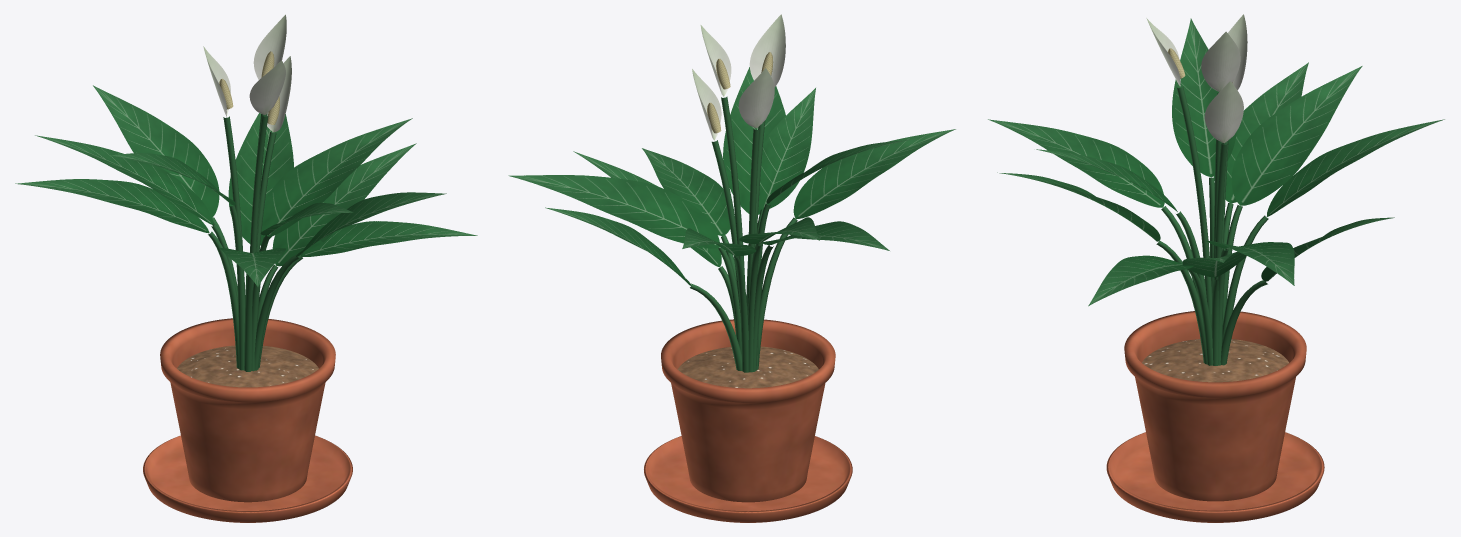
Rendered from spathiphyllum.glb.
The picture shows the model from 3 angles, left to right: view 1: azimuth 30°, elevation 25°; view 2: azimuth 150°, elevation 25°; view 3: azimuth 270°, elevation 25°; orthographic projection. The views are drawn at different scales.
Visible parts, largest first — view 1: piece-0, piece-1, piece-11, piece-14, piece-9, piece-2, piece-3, piece-12, piece-6, piece-4, piece-8, piece-23 (+8 smaller); view 2: piece-0, piece-1, piece-11, piece-14, piece-10, piece-2, piece-5, piece-23, piece-8, piece-13, piece-6, piece-19 (+8 smaller); view 3: piece-0, piece-1, piece-4, piece-14, piece-10, piece-2, piece-7, piece-9, piece-23, piece-12, piece-8, piece-21 (+8 smaller).
Boxes of the visible parts, bbox=[...] form: piece-0: bbox=[160, 318, 335, 502]; piece-1: bbox=[143, 435, 352, 522]; piece-11: bbox=[261, 118, 412, 236]; piece-14: bbox=[208, 205, 302, 371]; piece-9: bbox=[93, 85, 219, 217]; piece-2: bbox=[177, 345, 318, 387]; piece-3: bbox=[272, 143, 416, 266]; piece-12: bbox=[15, 179, 209, 233]; piece-6: bbox=[228, 113, 293, 245]; piece-4: bbox=[35, 135, 213, 224]; piece-8: bbox=[302, 221, 477, 256]; piece-23: bbox=[223, 113, 276, 289]; piece-0: bbox=[661, 319, 835, 502]; piece-1: bbox=[644, 436, 852, 522]; piece-11: bbox=[508, 175, 719, 248]; piece-14: bbox=[690, 203, 797, 372]; piece-10: bbox=[793, 129, 955, 218]; piece-2: bbox=[677, 346, 818, 388]; piece-5: bbox=[750, 88, 815, 209]; piece-23: bbox=[711, 96, 765, 314]; piece-8: bbox=[642, 148, 734, 235]; piece-13: bbox=[723, 67, 785, 214]; piece-6: bbox=[545, 207, 691, 285]; piece-19: bbox=[749, 14, 785, 86]; piece-0: bbox=[1124, 311, 1306, 501]; piece-1: bbox=[1106, 432, 1324, 522]; piece-4: bbox=[1231, 66, 1362, 205]; piece-14: bbox=[1156, 177, 1268, 365]; piece-10: bbox=[988, 119, 1164, 207]; piece-2: bbox=[1142, 339, 1288, 382]; piece-7: bbox=[1172, 18, 1236, 177]; piece-9: bbox=[1266, 119, 1444, 216]; piece-23: bbox=[1176, 86, 1228, 324]; piece-12: bbox=[1214, 62, 1308, 203]; piece-8: bbox=[1088, 255, 1193, 306]; piece-21: bbox=[1204, 81, 1243, 143].
Bounding box in the file's own units: 0.4237 × 0.4681 × 0.4137.
6 materials, 5 textured.
